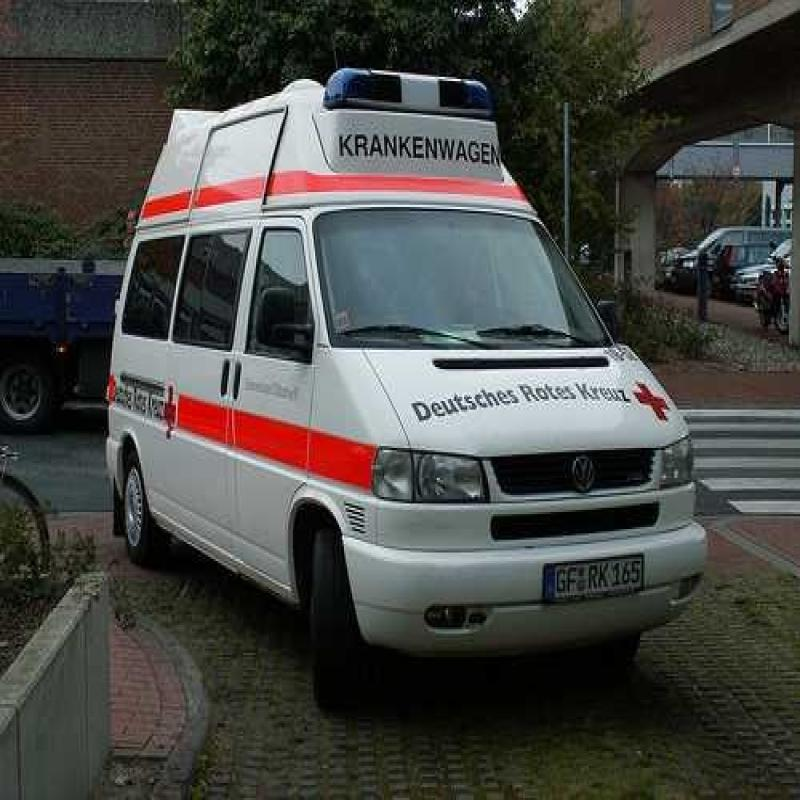AmbulanceSiren: (311, 39, 543, 139)
